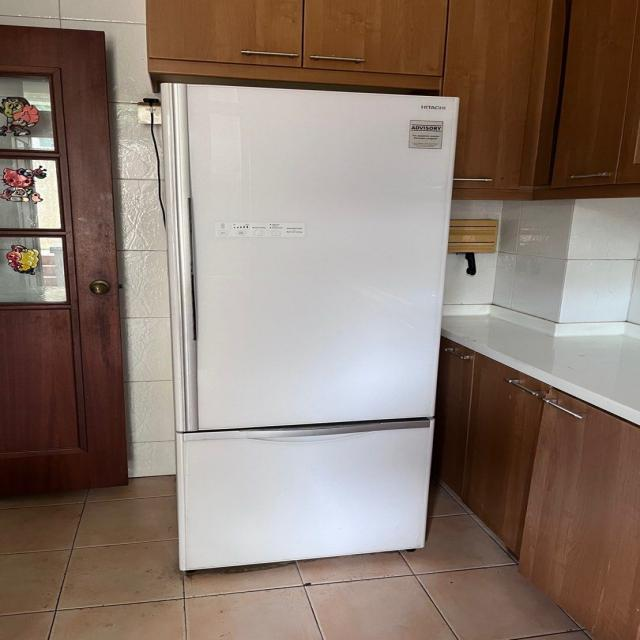refrigerator: (159, 81, 461, 572)
